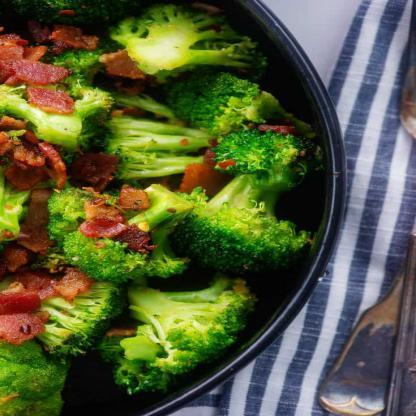broccoli: (0, 0, 326, 416)
